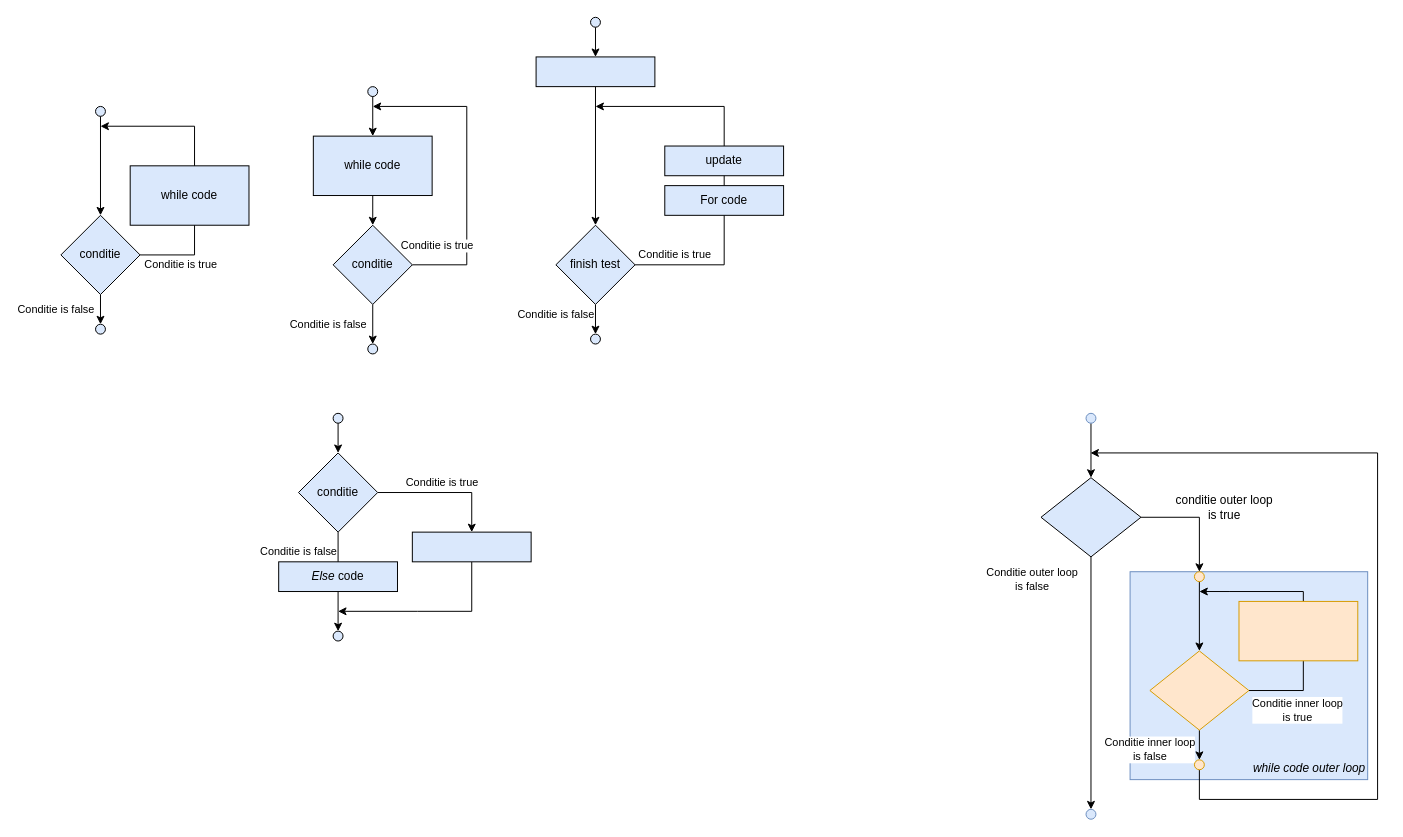
The diagram is 1403 pixels wide and 837 high, and some of its shapes have lost their labels. Each missing label, with the box of its shape:
conditie inner loop: (1149, 650, 1249, 730)
conditie outer loop: (1040, 477, 1141, 557)
If code: (411, 531, 531, 562)
setup: (535, 56, 655, 87)
while code inner loop: (1238, 600, 1358, 661)
